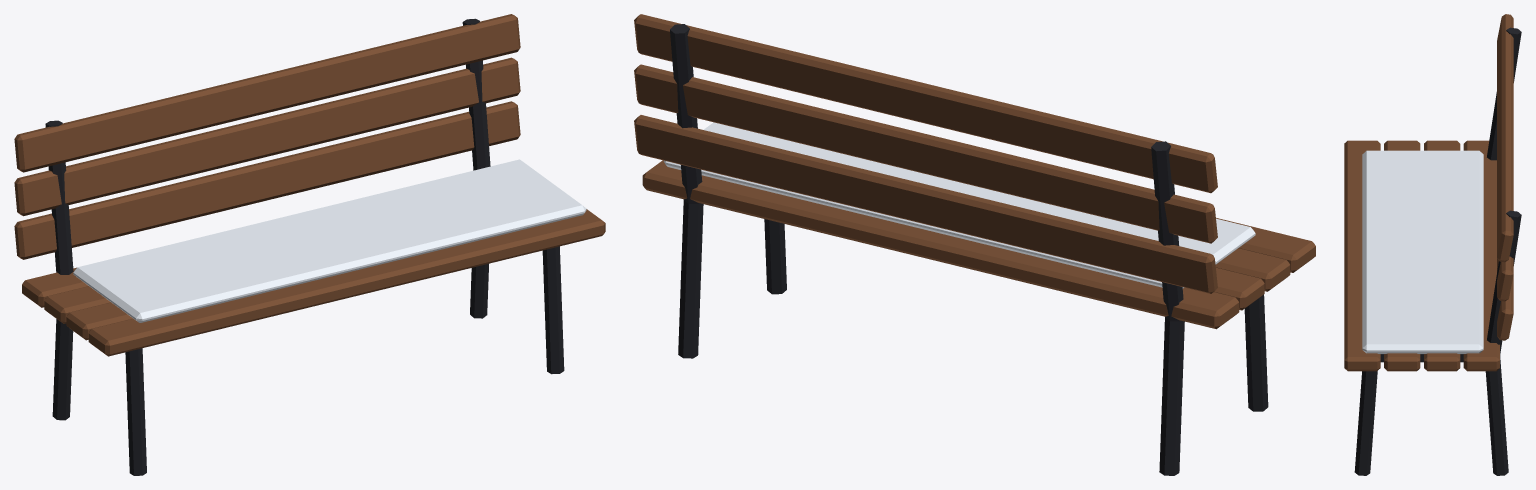
File: bench.obj
3 views of the same model, side by side, from view 1: azimuth 30°, elevation 25°; view 2: azimuth 150°, elevation 25°; view 3: azimuth 270°, elevation 25° (orthographic). The views are drawn at different scales.
Visible parts, largest first — view 1: bench; view 2: bench; view 3: bench.
Part boxes in pixels (x1=…): bench: x1=14, y1=14, x2=605, y2=475; bench: x1=634, y1=14, x2=1315, y2=475; bench: x1=1344, y1=14, x2=1521, y2=475.
Size of the model in its own units: 6 by 3.32 by 2.05.
1 material, 1 textured.
